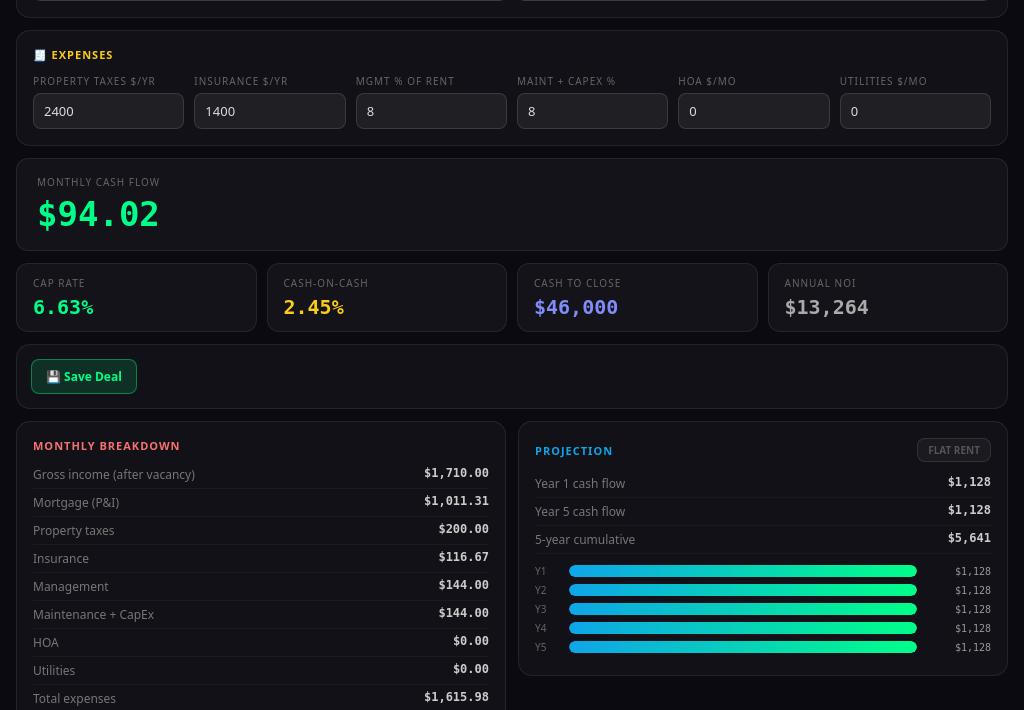
Test case: points and saved deals › saving requires a name, then the deal appears in Saved Deals
(page scrolled)
# First click with no name prompts for one instead of saving
Step 1. Click the button "💾 Save Deal" → (84, 376), box [31, 359, 137, 394]
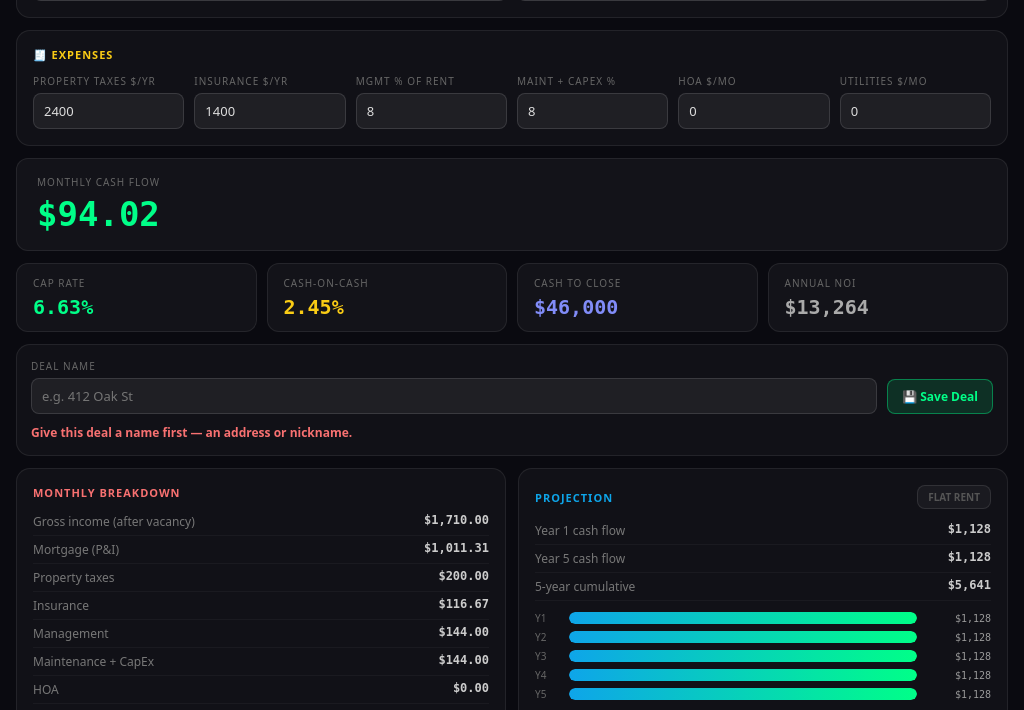
Expected: the text "Give this deal a name first — an address or nickname." is shown, [31, 424, 352, 441]
Step 2. Type "412 Oak St" into the field with placeholder "e.g. 412 Oak St" → (454, 396), box [31, 378, 877, 414]
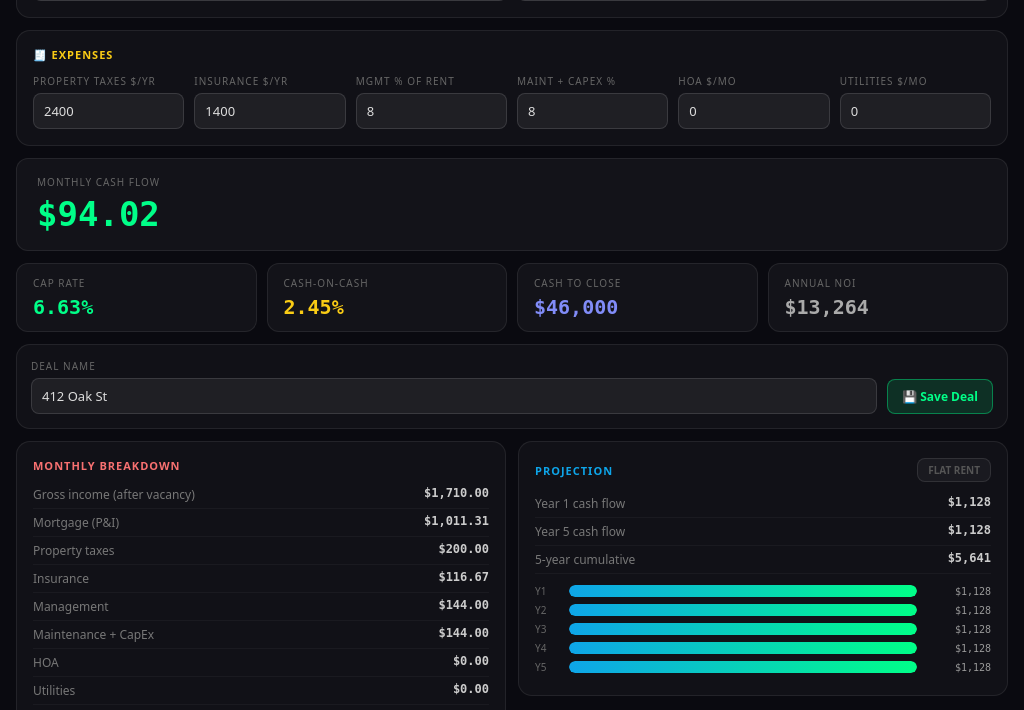
Step 3. Click the button "💾 Save Deal" → (940, 396), box [887, 379, 993, 414]
(page scrolled)
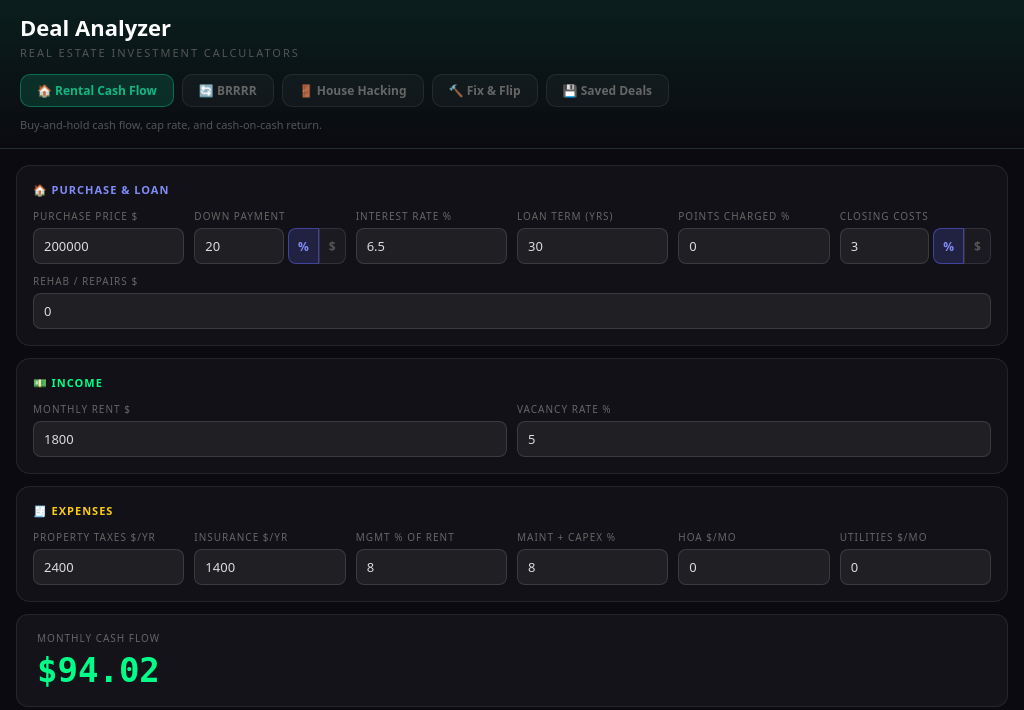
Step 4. Click the button "💾 Saved Deals" → (607, 90), box [546, 74, 669, 107]
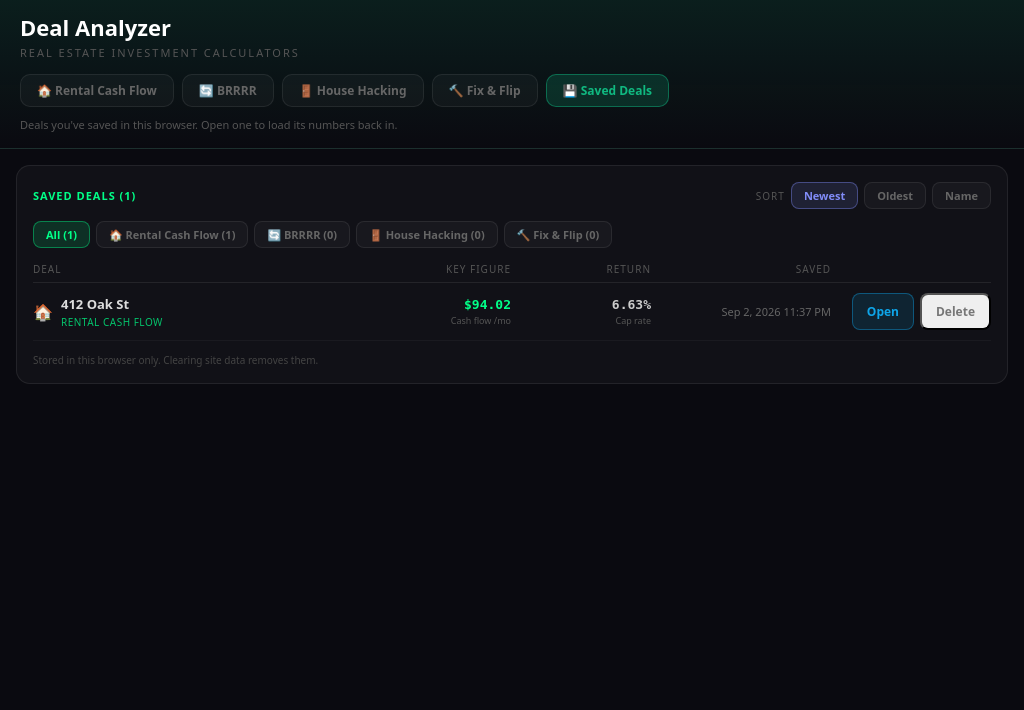
Expected: the text "$94.02" is shown, [464, 296, 511, 312]
Expected: the text "412 Oak St" is shown, [61, 294, 129, 312]
Expected: the text "Rental Cash Flow" is shown, [61, 314, 163, 328]
